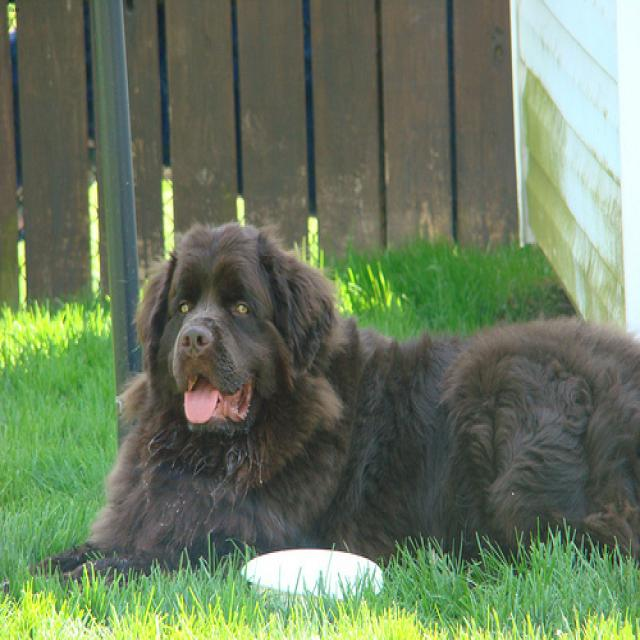dog-newfoundland: (1, 215, 637, 623)
